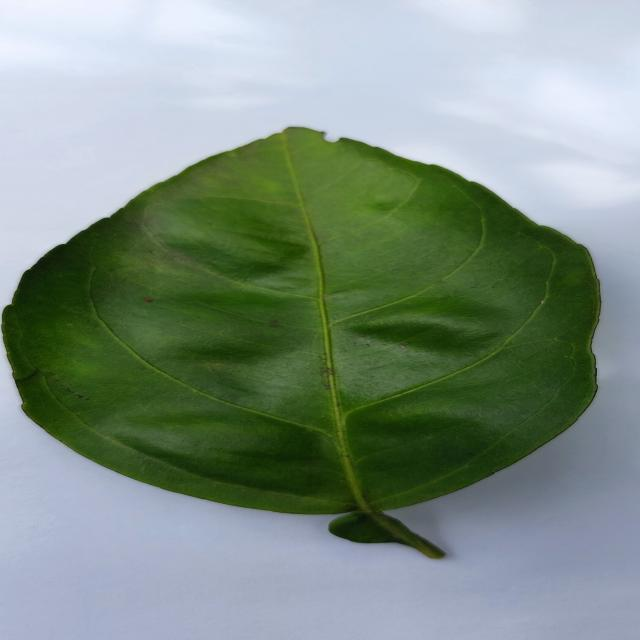greening: (6, 127, 599, 558)
